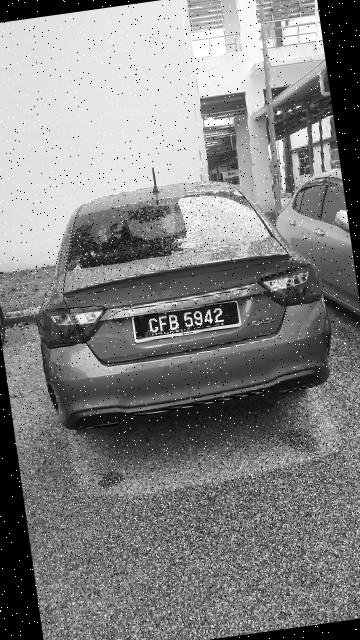License_Plate: (119, 287, 253, 349)
car: (16, 155, 344, 442)
